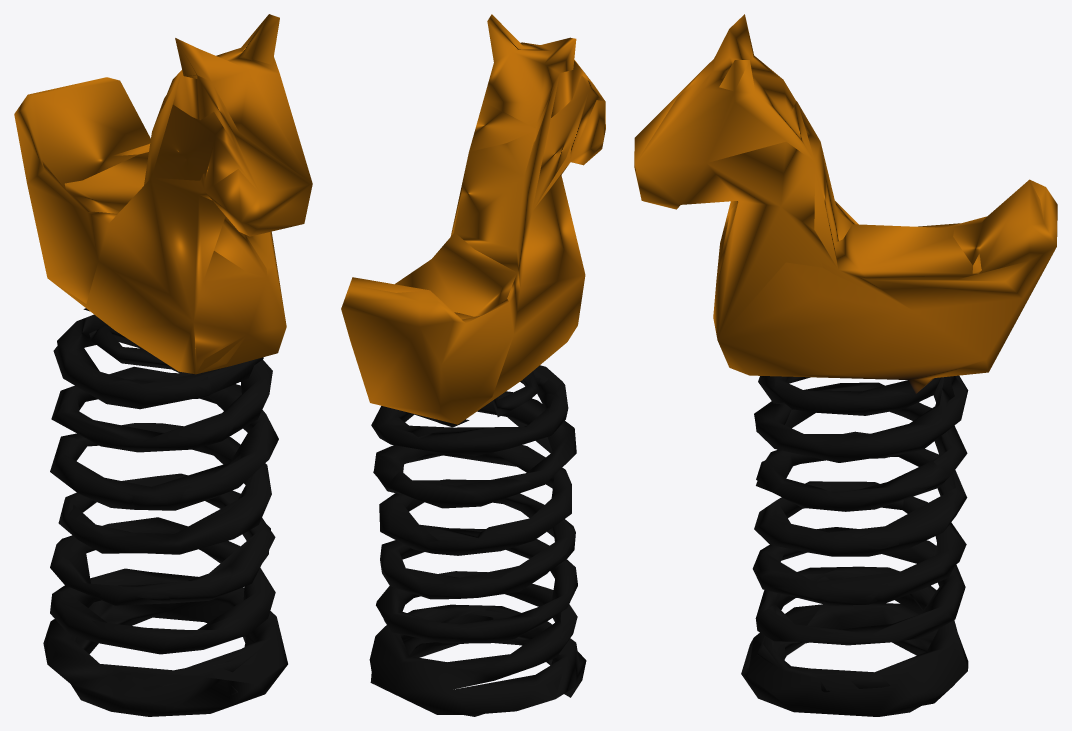
File: gen3d-spring-rider-lod1.glb
3 views of the same model, side by side, from view 1: azimuth 30°, elevation 25°; view 2: azimuth 150°, elevation 25°; view 3: azimuth 270°, elevation 25° (orthographic). The views are drawn at different scales.
Parts seen in each view (by area): view 1: part_0; view 2: part_0; view 3: part_0.
Part boxes in pixels (<box>): part_0: <box>14,14,312,716</box>; part_0: <box>341,14,605,716</box>; part_0: <box>634,14,1057,716</box>.
Bounding box in the file's own units: 0.3133 × 0.9945 × 0.594.
